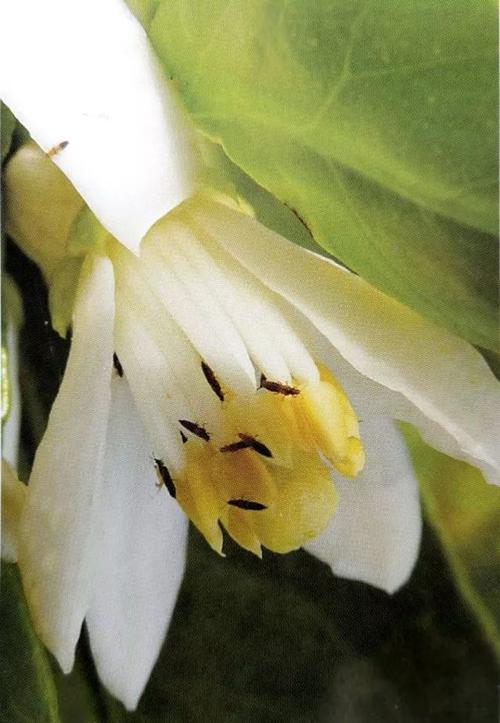Thripidae: (196, 358, 230, 407), (253, 374, 303, 402), (231, 430, 277, 460), (153, 458, 181, 505), (175, 414, 212, 445), (217, 497, 270, 515), (109, 345, 126, 380)
